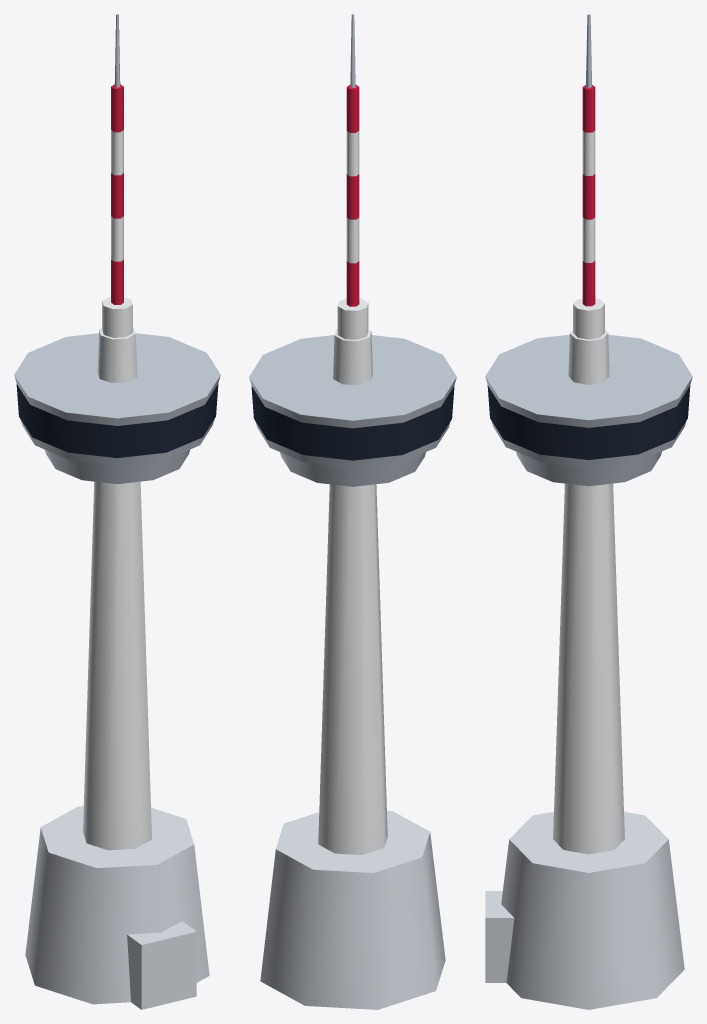
Rendered from south_korea.glb.
3 views of the same model, side by side, from view 1: azimuth 30°, elevation 25°; view 2: azimuth 150°, elevation 25°; view 3: azimuth 270°, elevation 25° (orthographic).
Visible parts, largest first — view 1: BaseAnnex, TowerShaft, ObservatoryGroup, EntranceLobby, LowerDeck, UpperShaft, RedSeg3, RedSeg1, WhiteSeg1, RedSeg2, WhiteSeg2; view 2: BaseAnnex, TowerShaft, ObservatoryGroup, LowerDeck, UpperShaft, RedSeg3, WhiteSeg1, RedSeg1, RedSeg2, WhiteSeg2; view 3: BaseAnnex, TowerShaft, ObservatoryGroup, LowerDeck, EntranceLobby, UpperShaft, RedSeg3, WhiteSeg1, WhiteSeg2, RedSeg1, RedSeg2.
Part boxes in pixels (x1,y1,x2,y2): BaseAnnex: [25, 806, 209, 1004]; TowerShaft: [83, 327, 151, 850]; ObservatoryGroup: [14, 333, 220, 465]; EntranceLobby: [127, 921, 196, 1009]; LowerDeck: [45, 449, 189, 484]; UpperShaft: [102, 297, 132, 337]; RedSeg3: [111, 84, 123, 132]; RedSeg1: [111, 259, 123, 304]; WhiteSeg1: [111, 216, 123, 261]; RedSeg2: [111, 173, 123, 218]; WhiteSeg2: [111, 130, 123, 175]; BaseAnnex: [260, 811, 445, 1009]; TowerShaft: [318, 329, 387, 854]; ObservatoryGroup: [249, 335, 456, 467]; LowerDeck: [280, 452, 425, 486]; UpperShaft: [337, 298, 368, 339]; RedSeg3: [346, 85, 359, 132]; WhiteSeg1: [346, 218, 359, 263]; RedSeg1: [346, 261, 359, 306]; RedSeg2: [346, 174, 359, 219]; WhiteSeg2: [346, 131, 359, 176]; BaseAnnex: [501, 811, 684, 1009]; TowerShaft: [553, 330, 624, 854]; ObservatoryGroup: [485, 334, 692, 467]; LowerDeck: [516, 451, 661, 486]; EntranceLobby: [485, 891, 514, 982]; UpperShaft: [573, 298, 604, 339]; RedSeg3: [582, 85, 595, 132]; WhiteSeg1: [582, 217, 595, 262]; WhiteSeg2: [582, 131, 595, 175]; RedSeg1: [582, 261, 595, 306]; RedSeg2: [582, 174, 595, 219].
Bounding box in the file's own units: 2.6 × 13.2 × 2.6.
